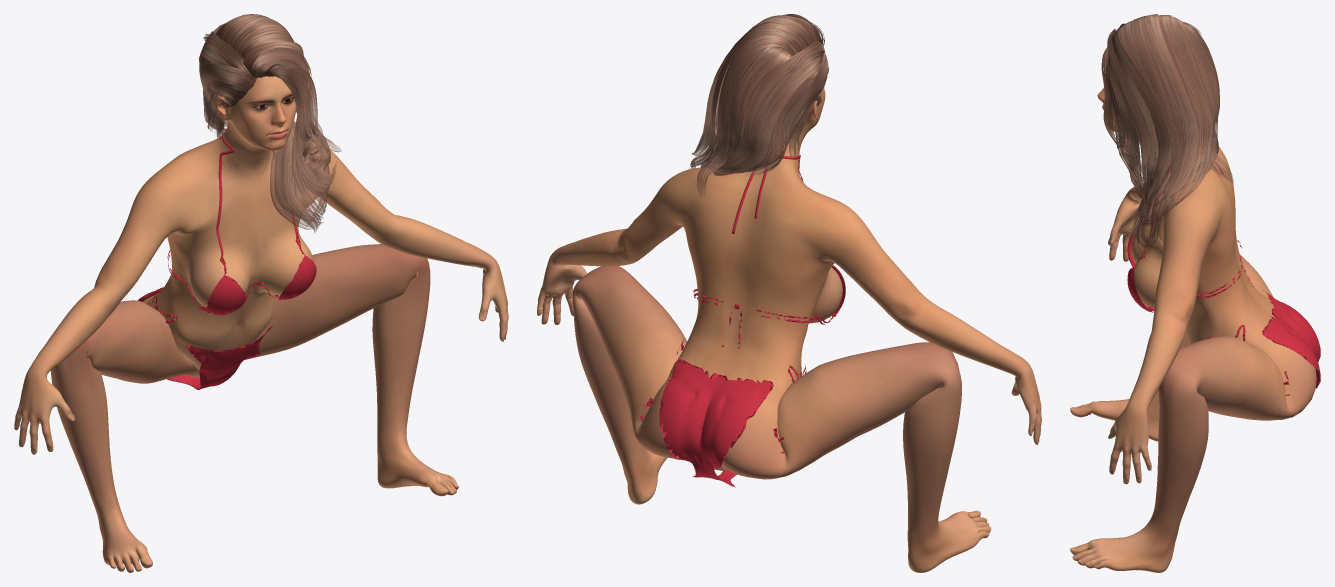
Rendered from female_squat_pulse_v2.glb.
3 views of the same model, side by side, from view 1: azimuth 30°, elevation 25°; view 2: azimuth 150°, elevation 25°; view 3: azimuth 270°, elevation 25° (orthographic). The views are drawn at different scales.
Visible parts, largest first — view 1: Body, Body.elvs_adrienne_hair, Bikini; view 2: Body, Body.elvs_adrienne_hair, Bikini; view 3: Body, Body.elvs_adrienne_hair, Bikini.
Part boxes in pixels (bbox=[...]): Body: bbox=[14, 76, 508, 572]; Body.elvs_adrienne_hair: bbox=[199, 14, 340, 232]; Bikini: bbox=[137, 129, 316, 389]; Body: bbox=[537, 67, 1041, 572]; Body.elvs_adrienne_hair: bbox=[689, 14, 828, 196]; Bikini: bbox=[639, 155, 845, 487]; Body: bbox=[1070, 88, 1316, 572]; Body.elvs_adrienne_hair: bbox=[1101, 14, 1233, 261]; Bikini: bbox=[1127, 147, 1320, 395].
Size of the model in its own units: 1.13 by 1.12 by 0.522.
Materials: 8 (7 with a texture image).
